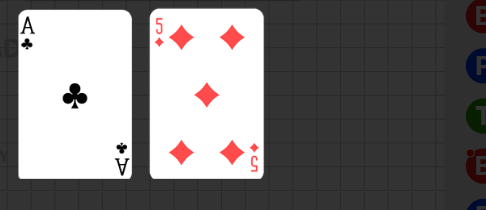5D: (248, 141, 260, 174)
AC: (20, 15, 37, 53)
